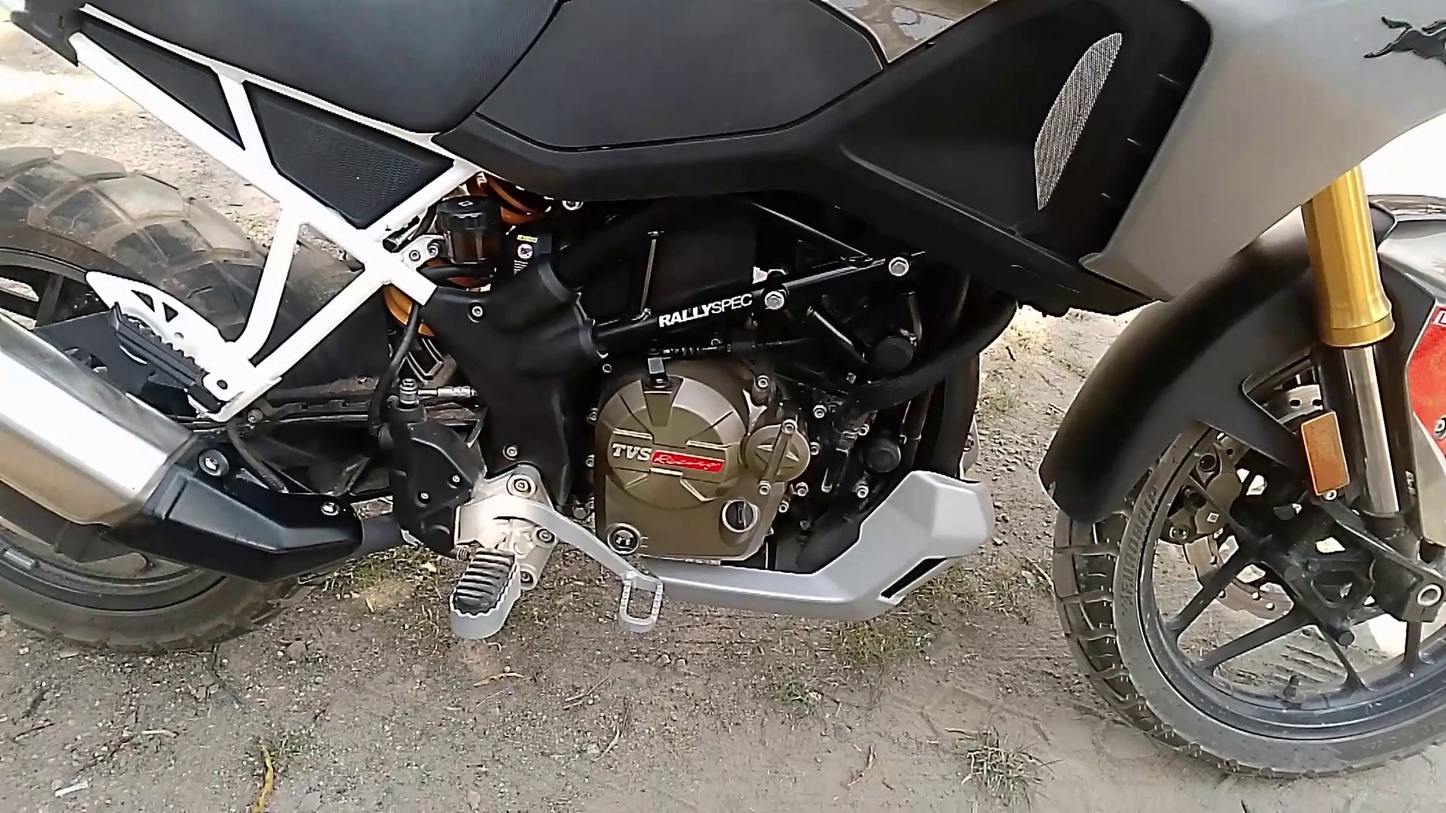engine: (555, 235, 853, 595)
oil_cap: (717, 470, 763, 550)
oil_marker: (595, 510, 663, 570)
